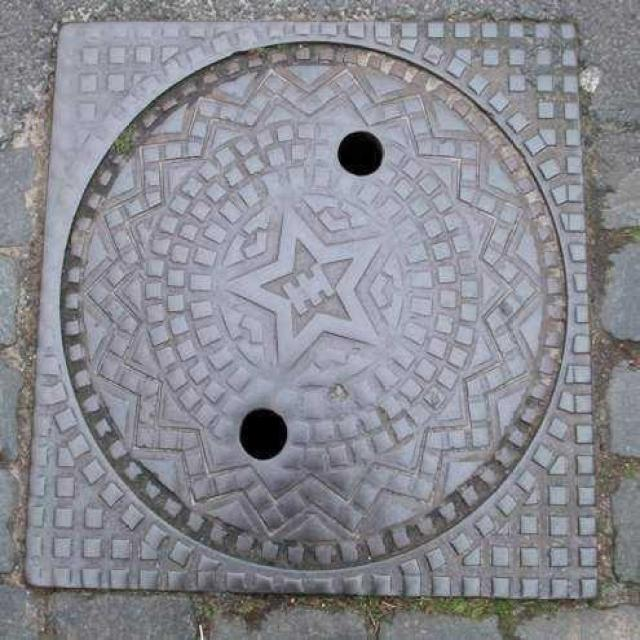manhole: (22, 0, 599, 603)
